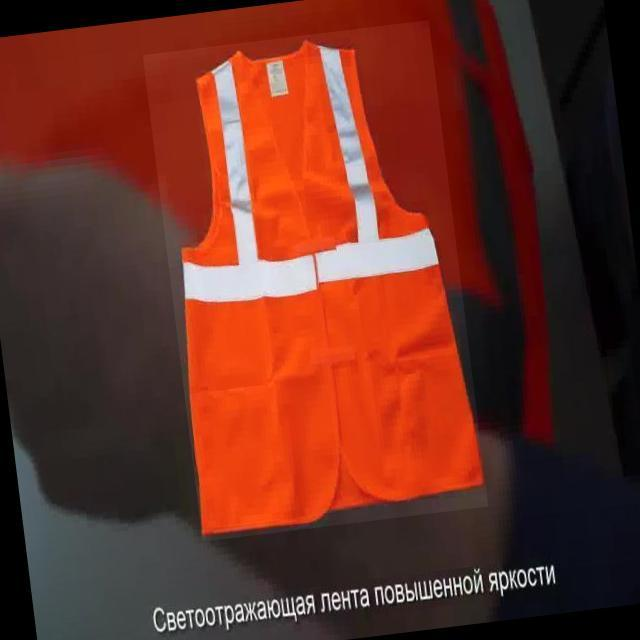Safety Vest: (142, 20, 488, 541)
